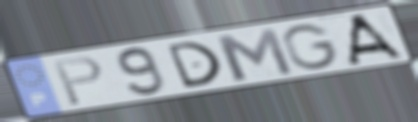9: (116, 44, 170, 100)
A: (346, 12, 408, 67)
D: (163, 40, 225, 91)
G: (279, 23, 342, 72)
M: (211, 26, 298, 83)
P: (50, 54, 105, 108)
